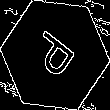P_SE: (26, 25, 84, 85)
